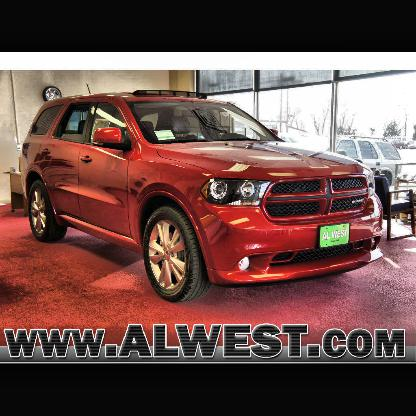Dodge Durango SUV 2012: (21, 94, 383, 304)
